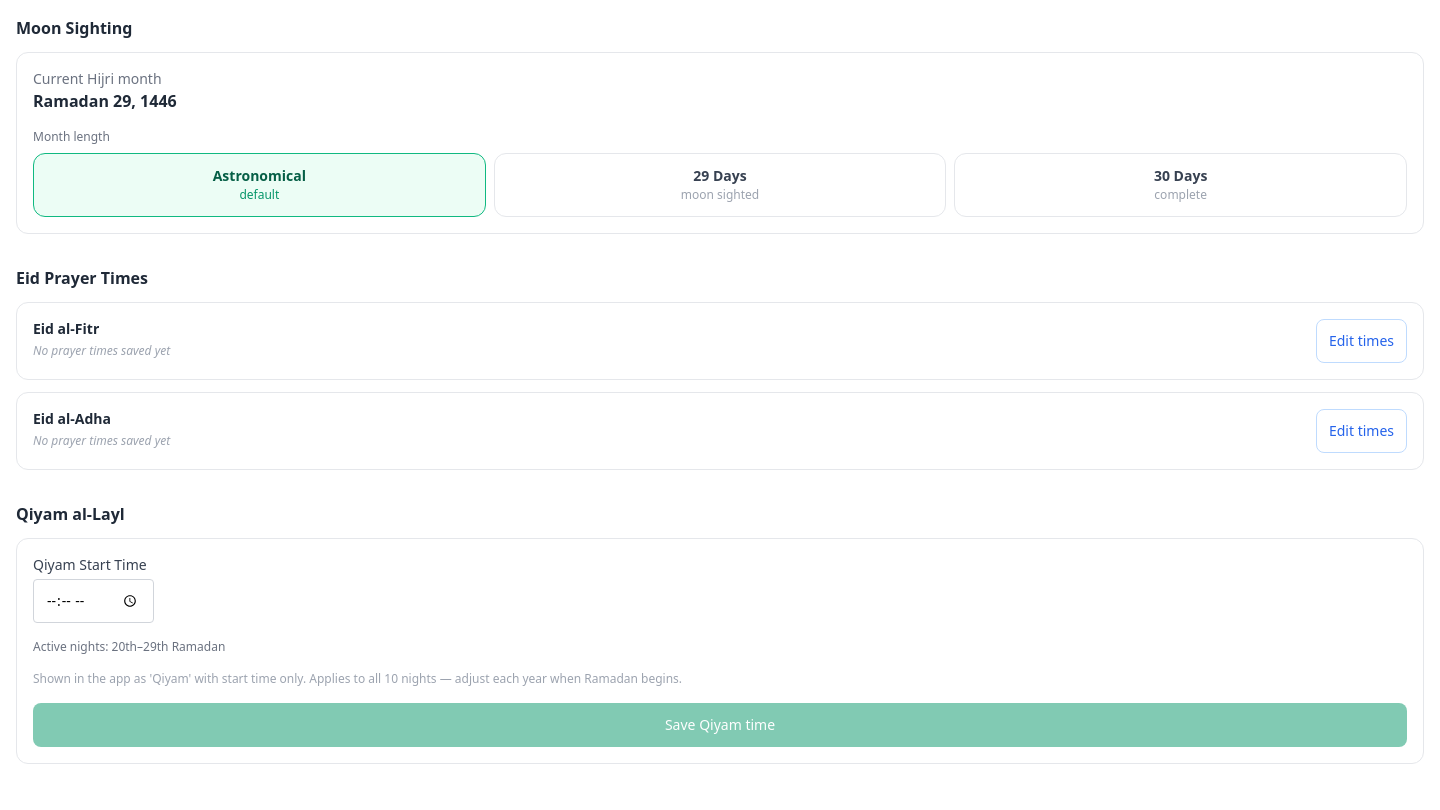
it: RamadanEidPage — unit tests › closes ConfirmationSheet when Cancel is tapped
This screenshot has width=1440, height=810.
What coordinates should you click on to do the following:
click the button with test id "month-length-tile-29"
I would click on:
 (720, 185)
Its box is [494, 153, 946, 217].
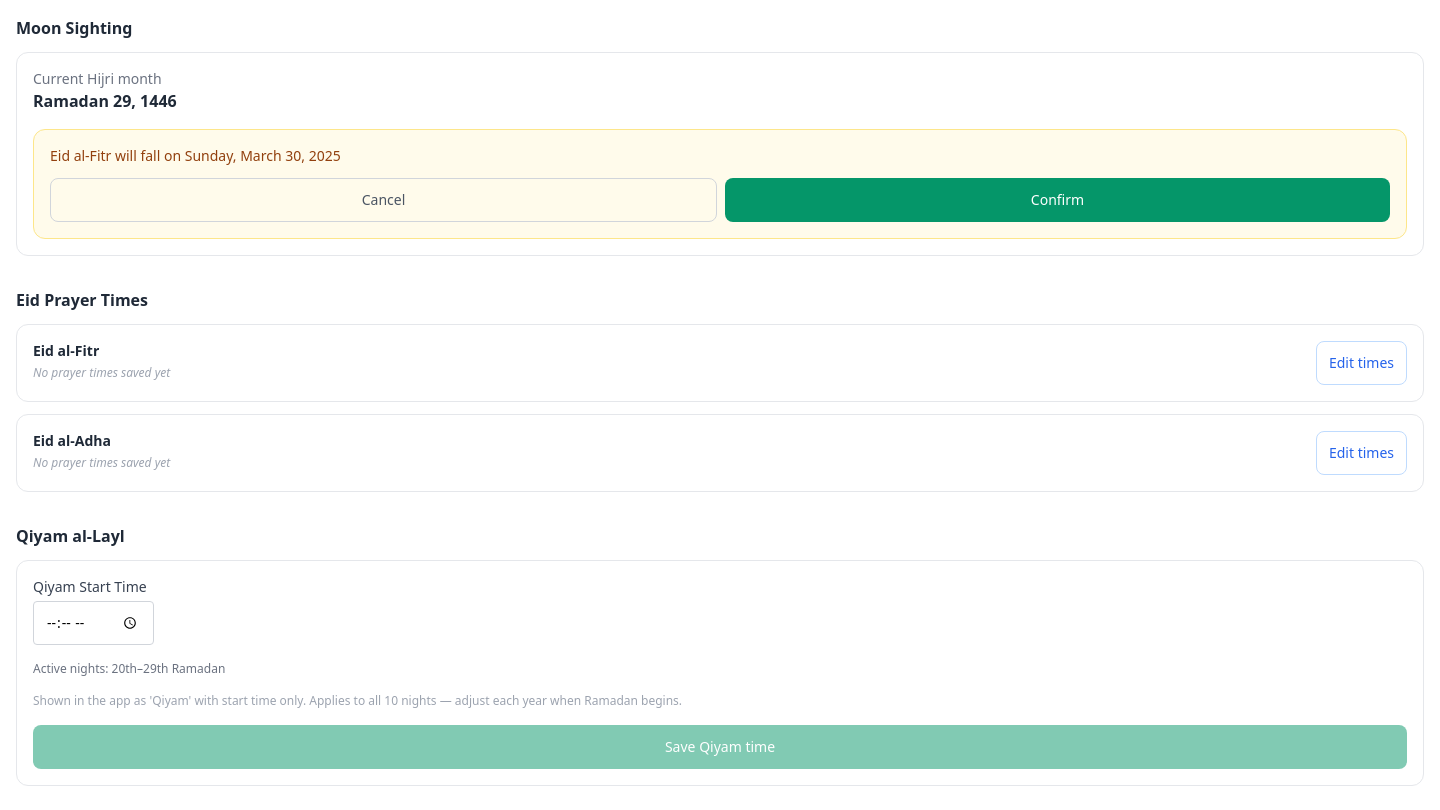
Expected: the text "Eid al-Fitr will fall on Sunday, March 30, 2025" is shown, [50, 146, 341, 165]
What coordinates should you click on to do the following:
click the button "Cancel"
I would click on:
 (384, 200)
Its box is [50, 178, 717, 222].
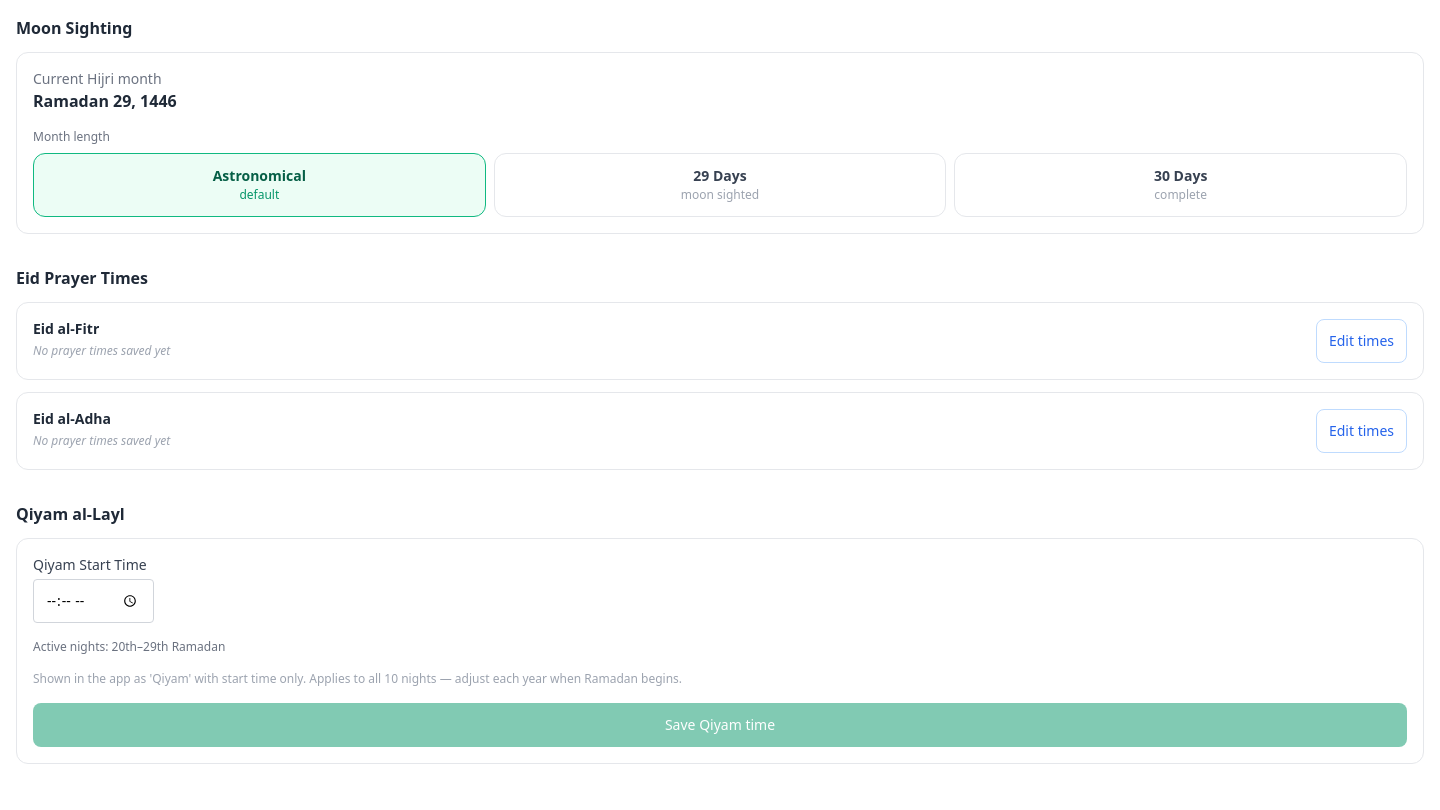
Expected: the text "Eid al-Fitr will fall on" is gone
